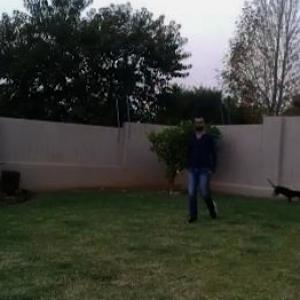follow: (186, 113, 216, 220)
